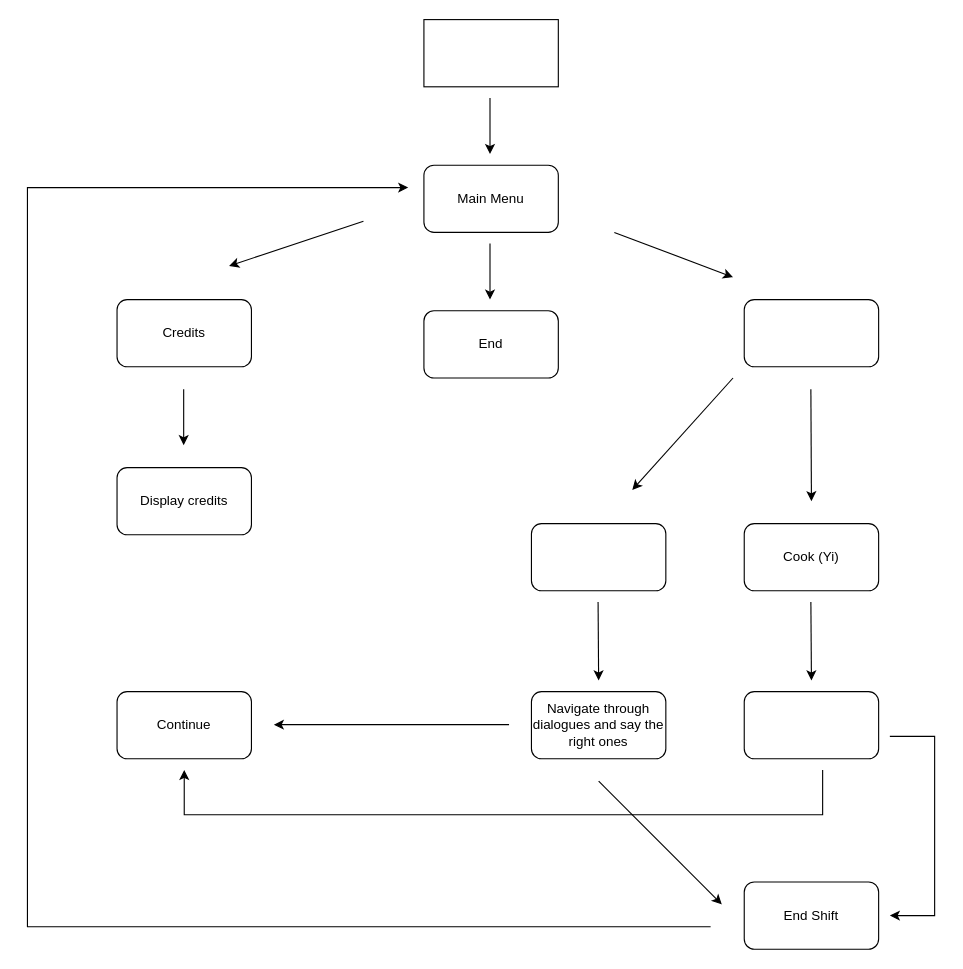
This 963x969 diagram has some shape labels left out. Each missing label, with the box of its shape:
Cashier (Jonathan): (530, 522, 666, 591)
Game: (743, 298, 879, 367)
Pizza.py: (423, 18, 558, 87)
Type what pizza you want to cook: (743, 690, 879, 759)
